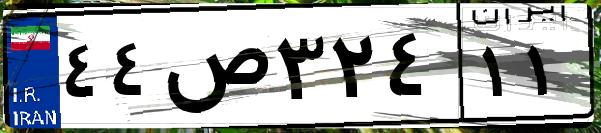1: (475, 38, 525, 113), (525, 38, 570, 115)
2: (330, 28, 385, 110)
3: (270, 28, 330, 110)
4: (385, 28, 445, 110), (57, 26, 110, 100), (110, 28, 158, 98)
ص: (158, 20, 270, 120)
